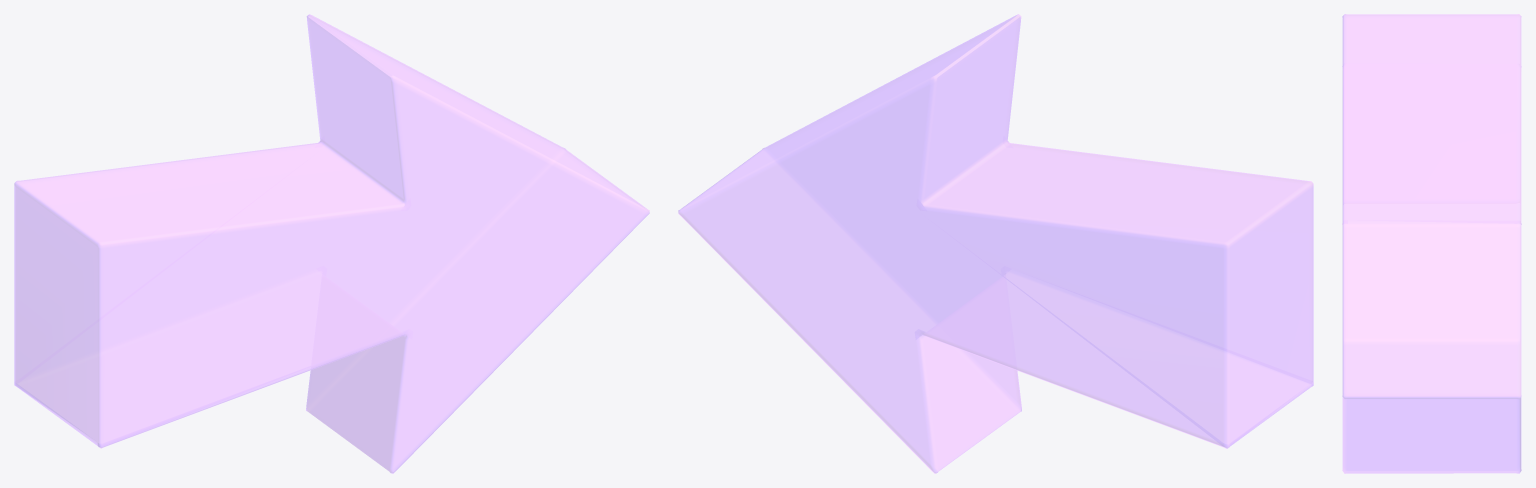
The model's file is flecha.glb.
The picture shows the model from 3 angles, left to right: view 1: azimuth 30°, elevation 25°; view 2: azimuth 150°, elevation 25°; view 3: azimuth 270°, elevation 25°; orthographic projection. The views are drawn at different scales.
Visible parts, largest first — view 1: polySurface2; view 2: polySurface2; view 3: polySurface2.
Boxes of the visible parts, x1=… form: polySurface2: x1=14, y1=14, x2=649, y2=473; polySurface2: x1=678, y1=14, x2=1313, y2=473; polySurface2: x1=1342, y1=14, x2=1521, y2=473.
Size of the model in its own units: 7.7 by 5.31 by 2.1.
